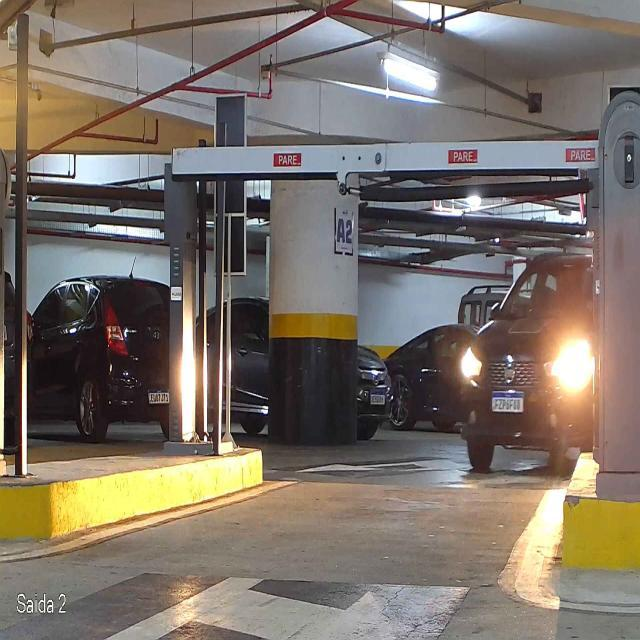mercosul_plate: (491, 390, 525, 414)
